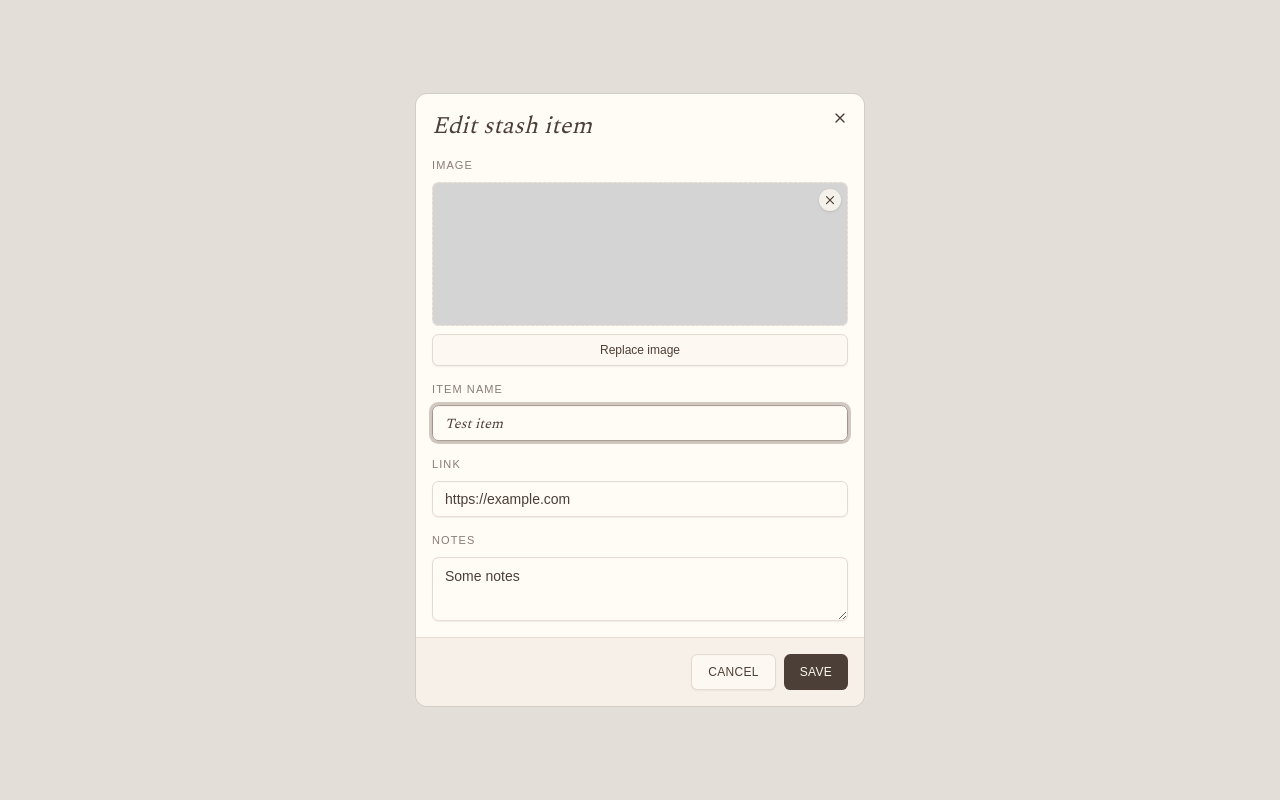
Test: StashItemModal › removes an existing image preview
This screenshot has width=1280, height=800.
Click the button named "Remove image" at (830, 200), box [819,189,841,211]
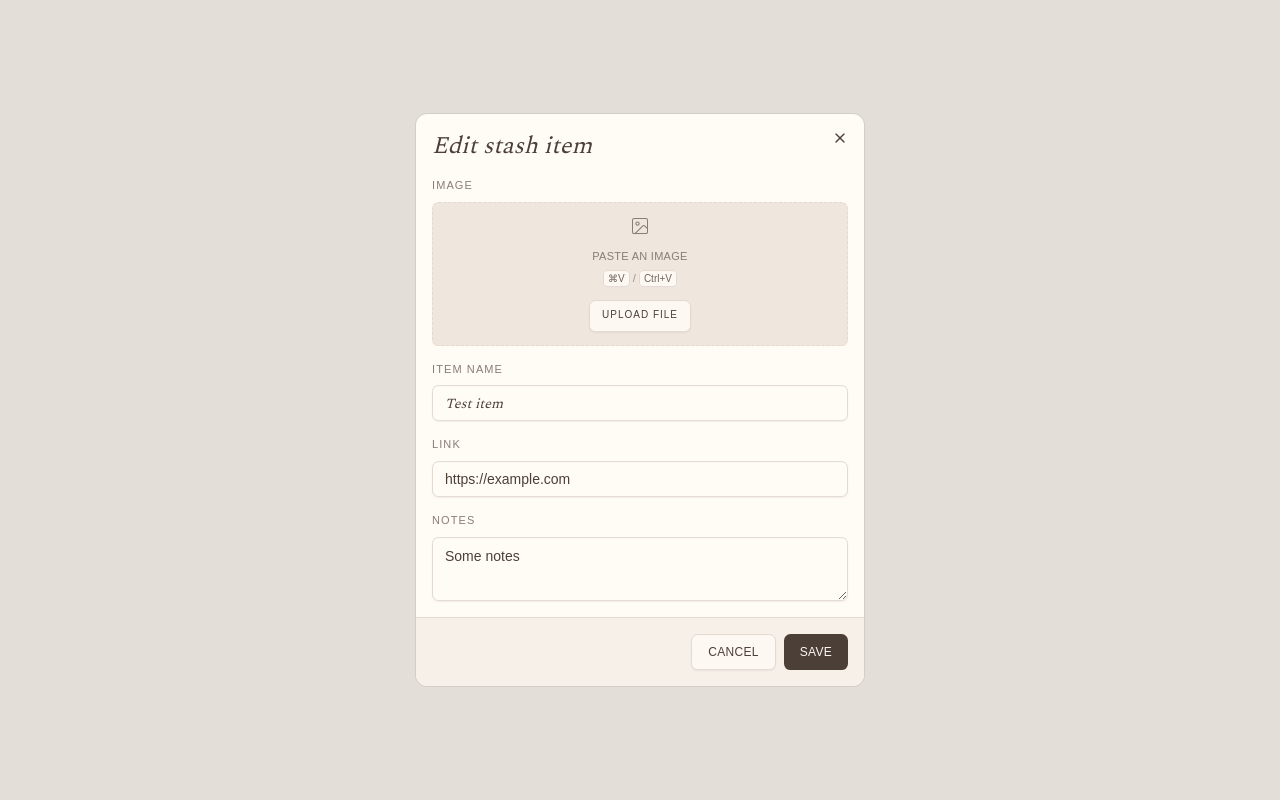
Result: the picture with alt text "Preview" is gone
Result: the text "Paste an image" is shown at [592,250,688,262]
Result: the button "Upload file" is shown at [589,300,691,332]
